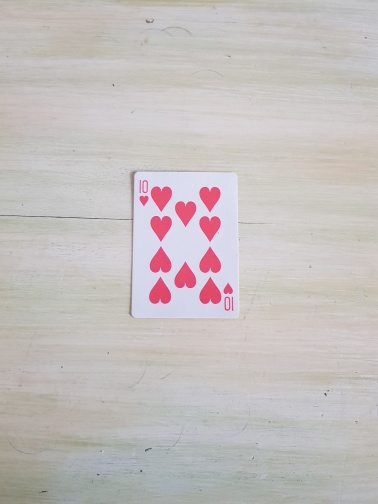ten: (128, 170, 242, 321)
